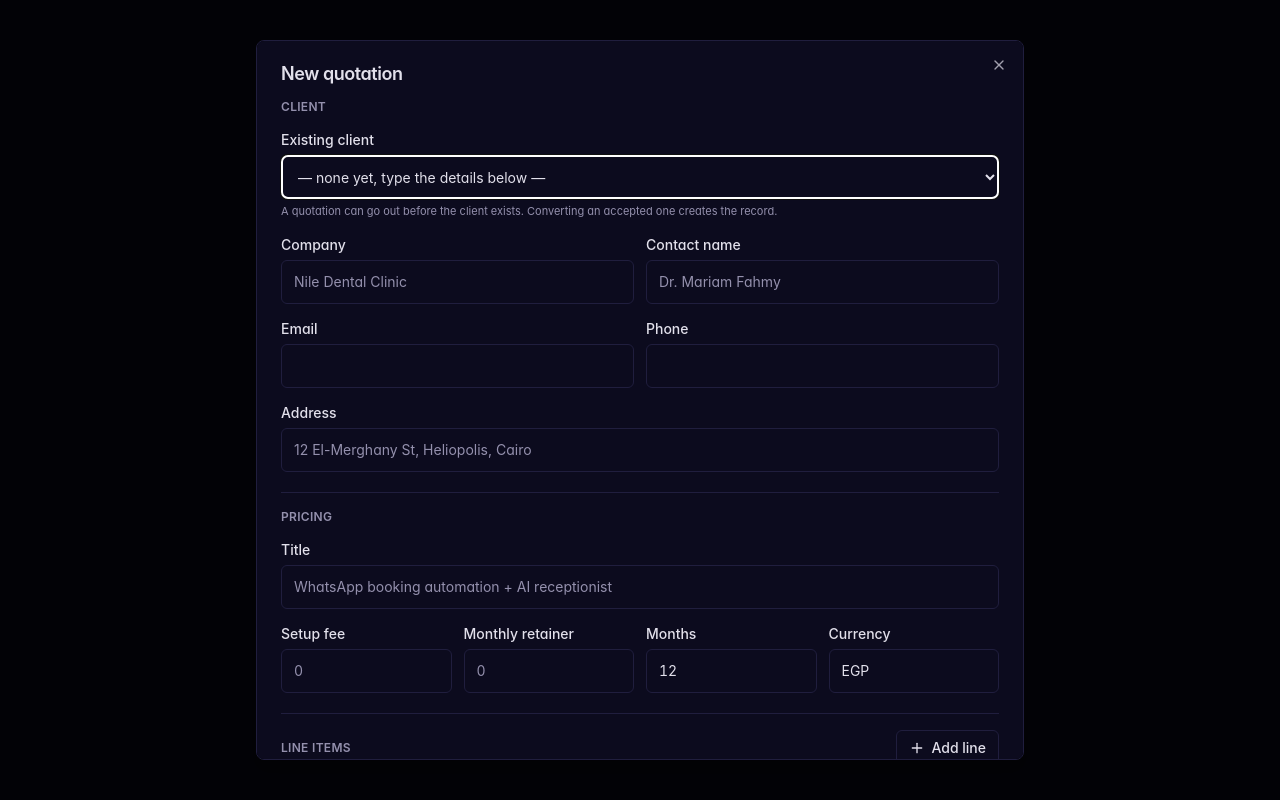
Test: DocumentForm — live total preview › never previews a negative total when the discount exceeds the subtotal
The image size is (1280, 800).
Type "3000" into the field labelled "Setup fee" at x=366, y=670, box [281,648,452,692]
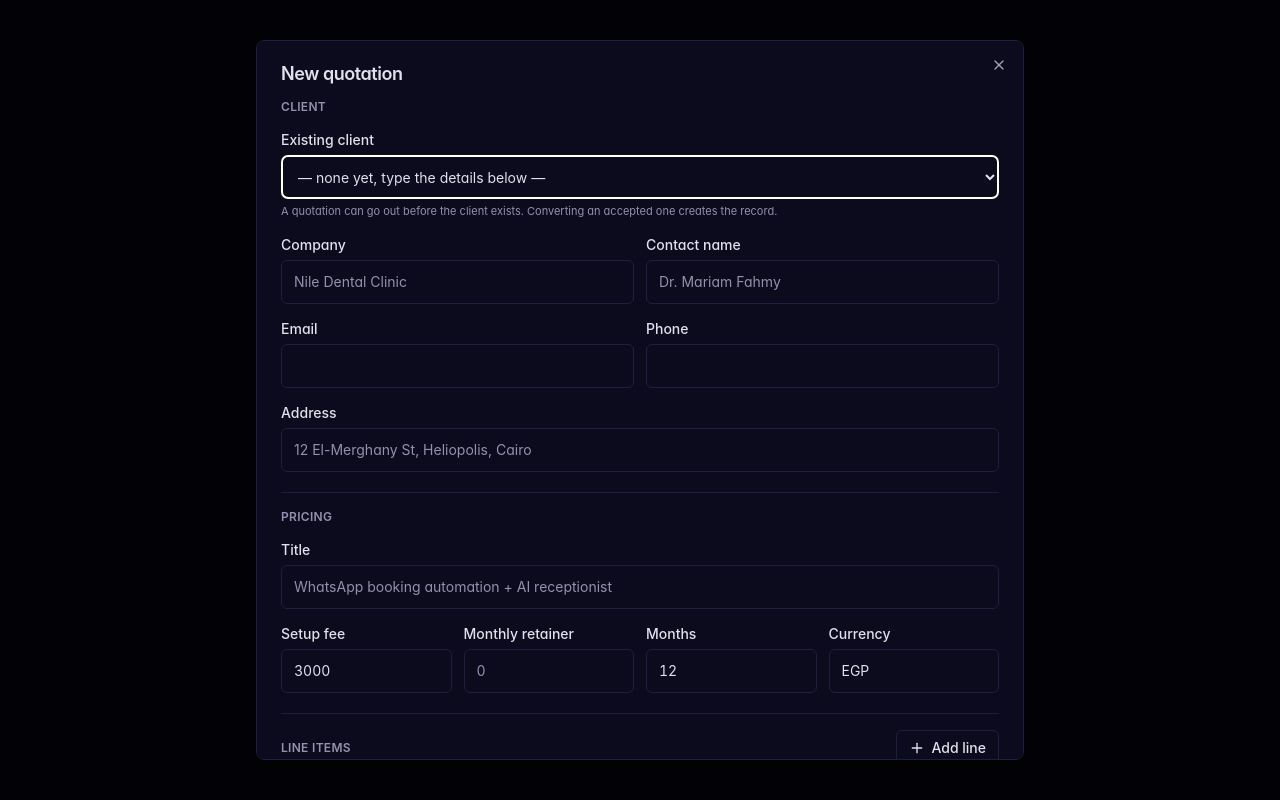
Replace the text in the field labelled "Months" with "0" at x=731, y=670, box [646,648,816,692]
(page scrolled)
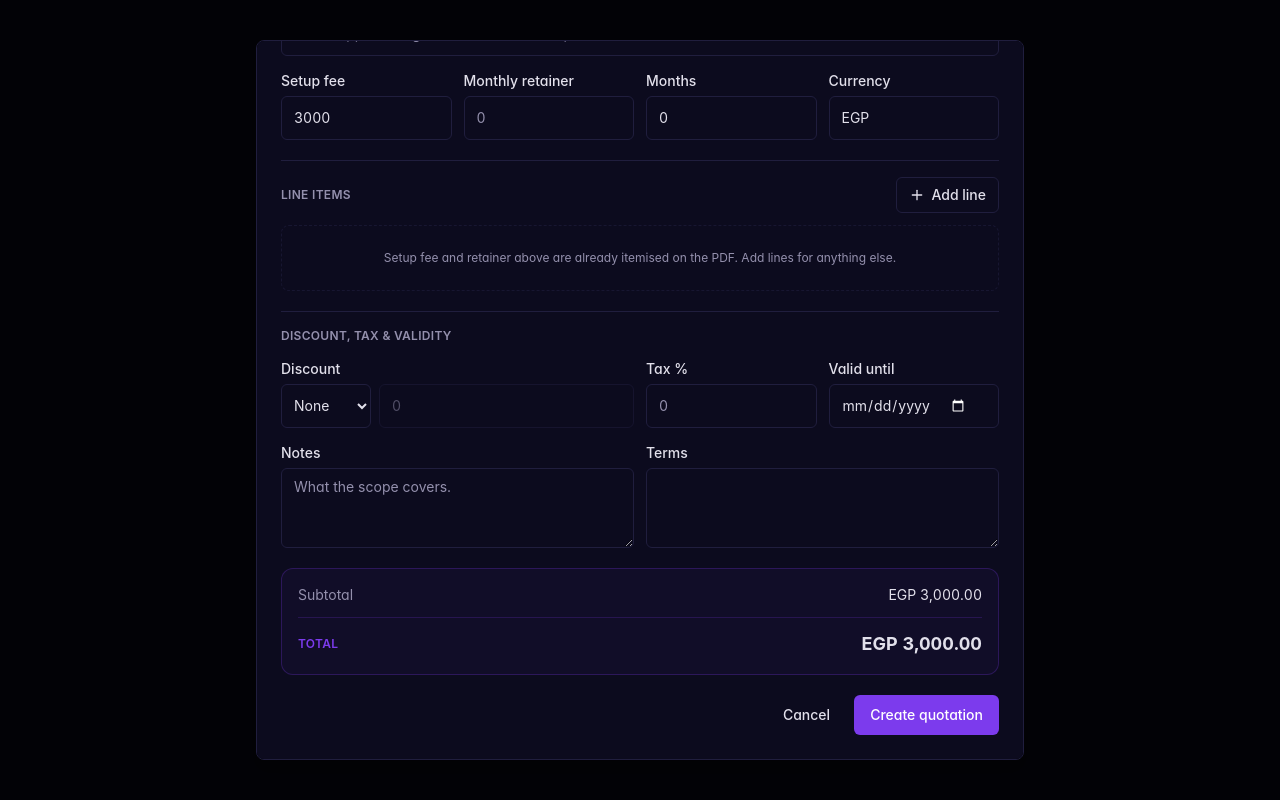
Select "Amount" in the dropdown labelled "Discount" at x=326, y=406, box [281,384,371,428]
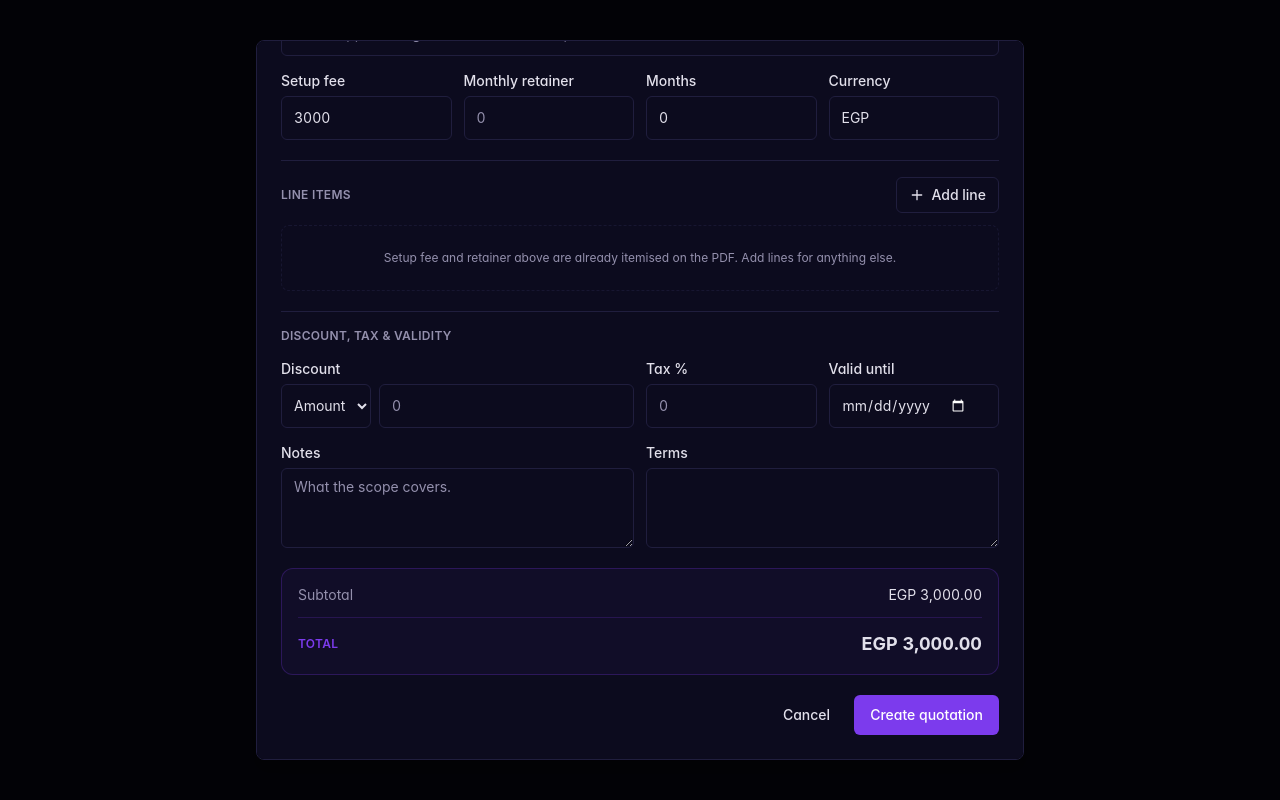
Type "5000" into the field named "Discount value" at x=506, y=406, box [379,384,634,428]
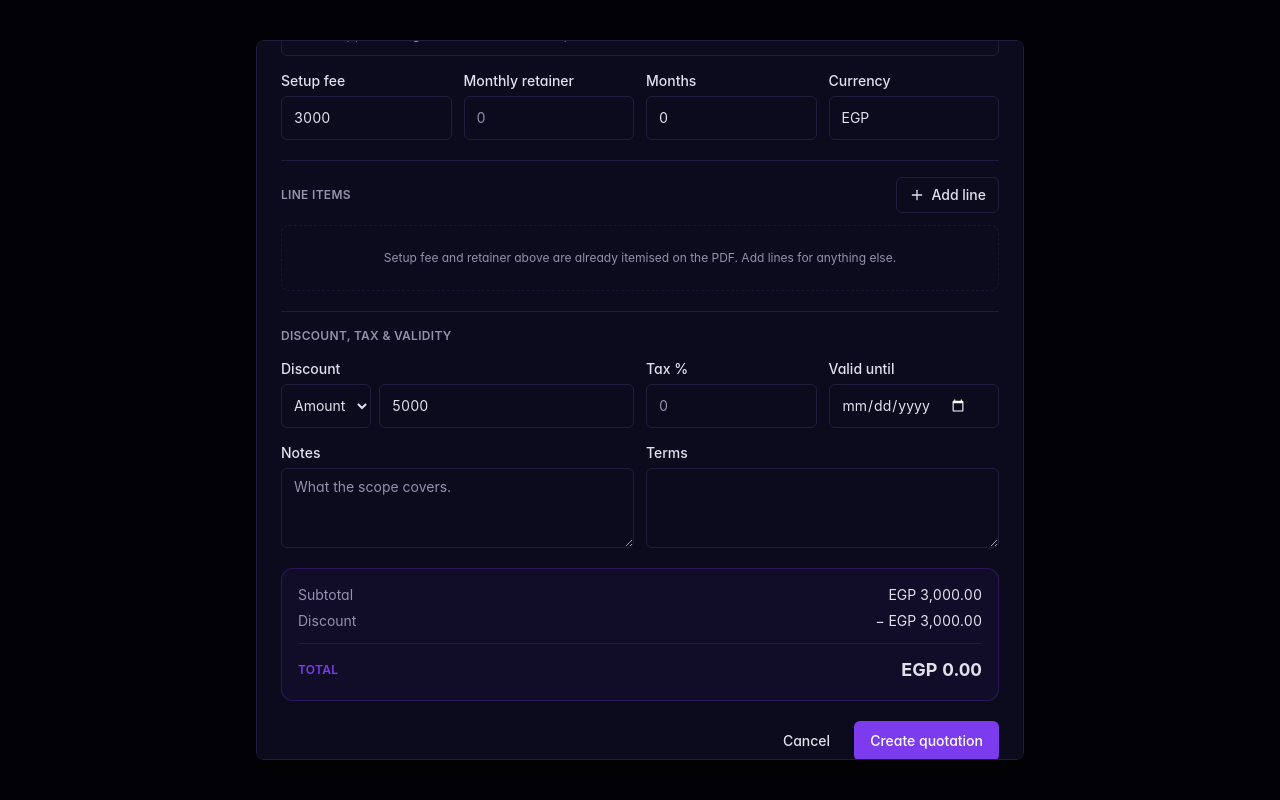
Result: the text named "Total" reads "EGP 0.00" at [901,658,982,680]
